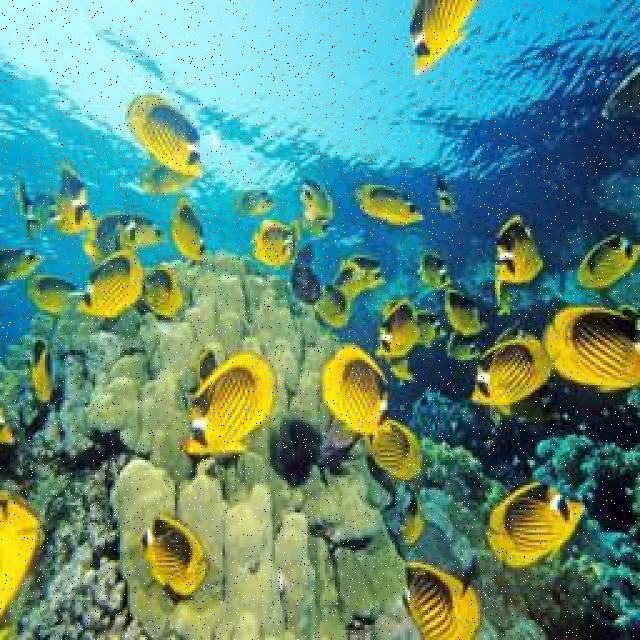fish: (182, 351, 279, 457), (484, 481, 590, 566), (549, 307, 638, 391), (320, 346, 392, 434), (126, 96, 203, 178), (137, 515, 206, 597), (471, 339, 552, 407), (405, 564, 479, 638), (409, 1, 480, 75), (0, 494, 38, 615), (84, 213, 165, 264), (81, 250, 142, 316), (495, 214, 543, 283), (375, 300, 421, 358), (356, 185, 422, 224), (171, 196, 209, 261), (250, 219, 296, 264), (445, 288, 489, 333), (0, 248, 45, 284), (299, 181, 333, 219), (420, 248, 451, 286), (403, 491, 422, 545), (234, 190, 275, 214)
